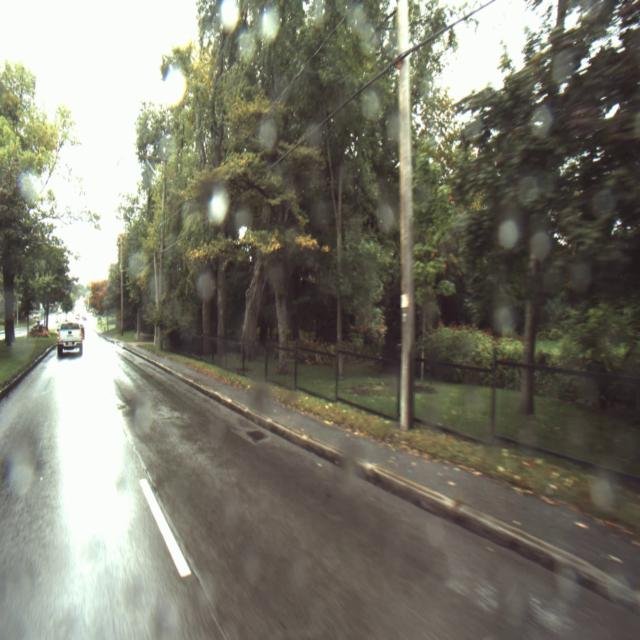car: (58, 323, 84, 358)
